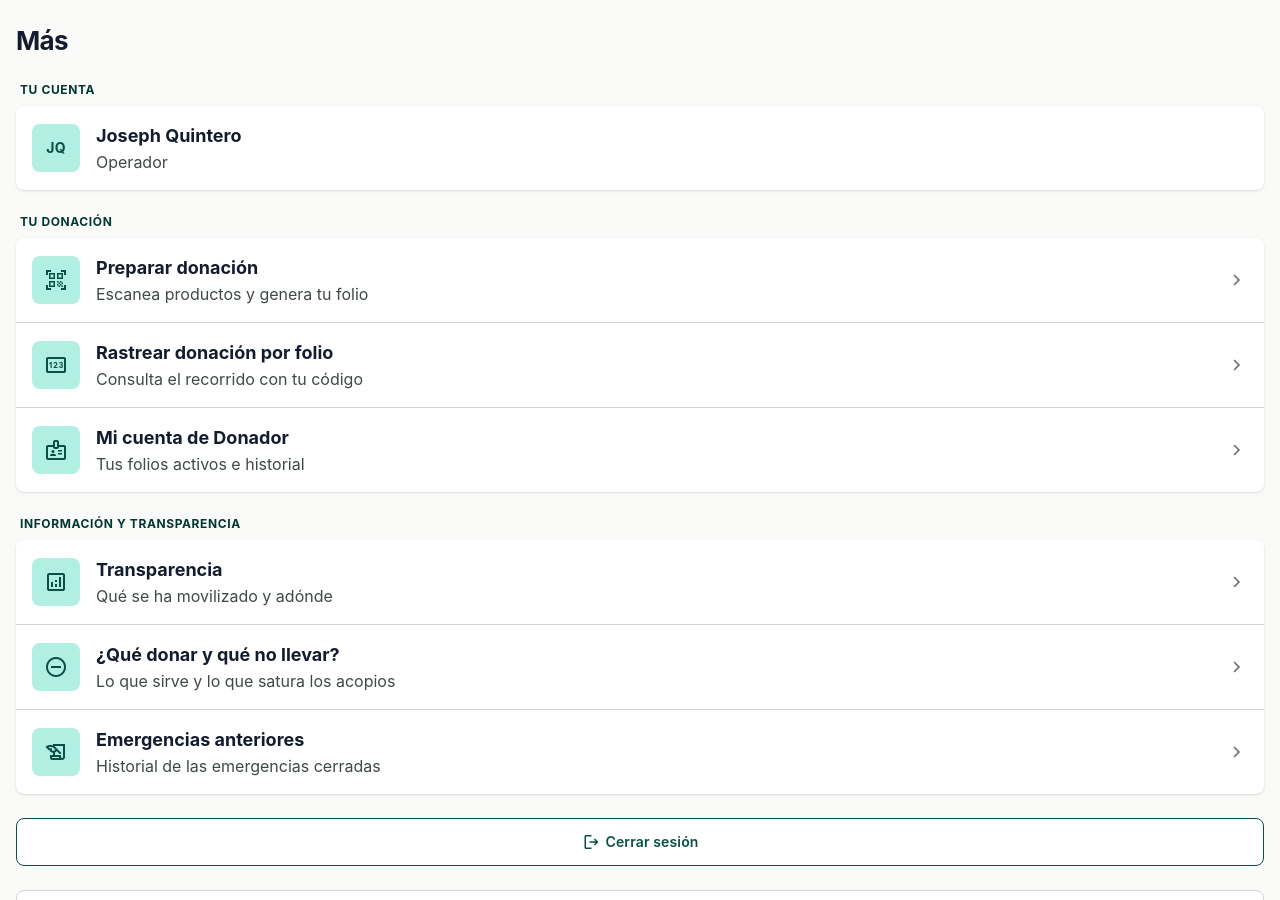
Test: Cerrar sesión con entradas sin enviar (O-12) › avisa cuántas son antes de cerrar y deja seguir en la consola
The image size is (1280, 900).
Click the button "Cerrar sesión" at (640, 842), box left=16, top=818, right=1264, bottom=866
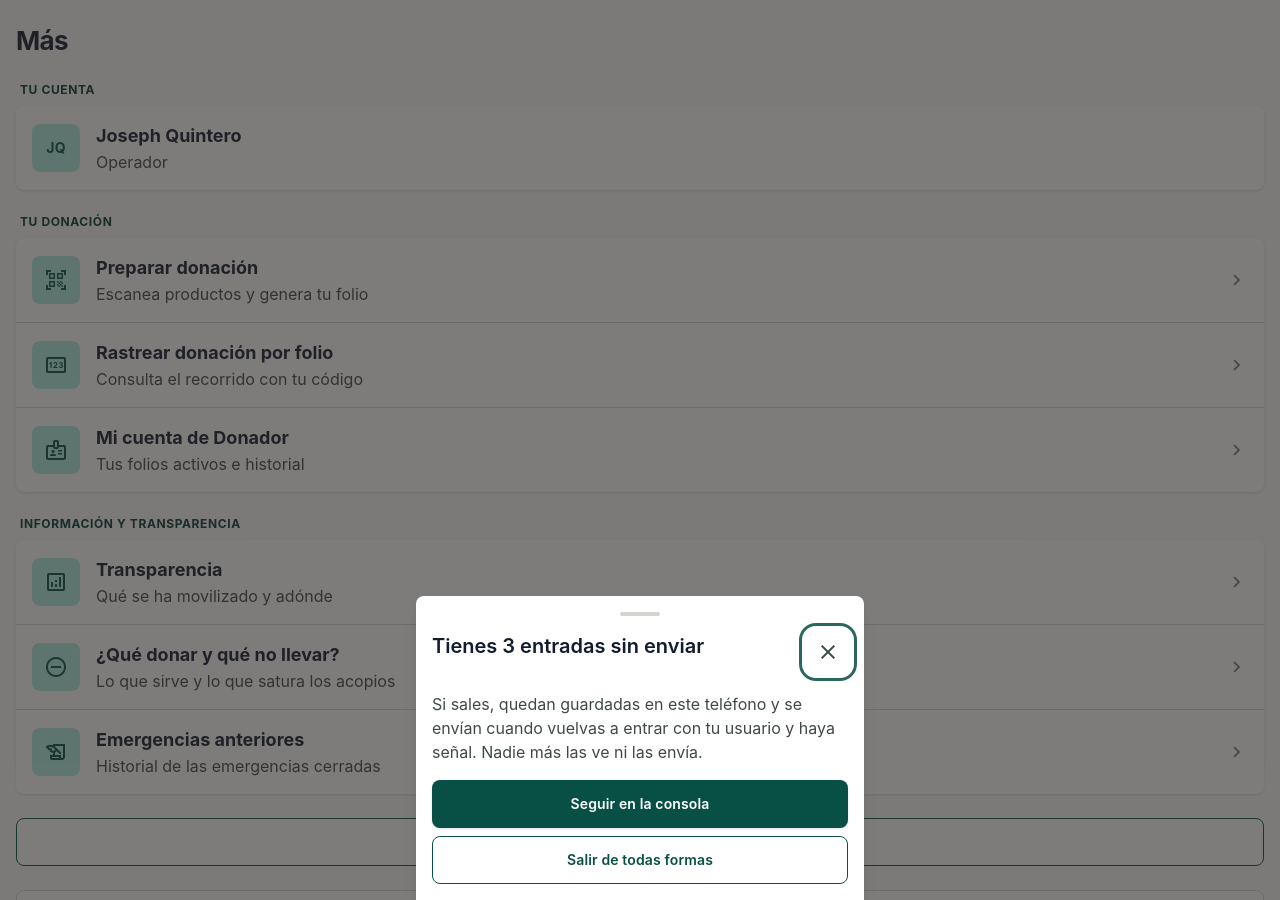
Result: the dialog "Tienes 3 entradas sin enviar" shows "quedan guardadas en este teléfono" at left=432, top=694, right=835, bottom=762
Click the button "Seguir en la consola" at (640, 804), box left=432, top=780, right=848, bottom=828
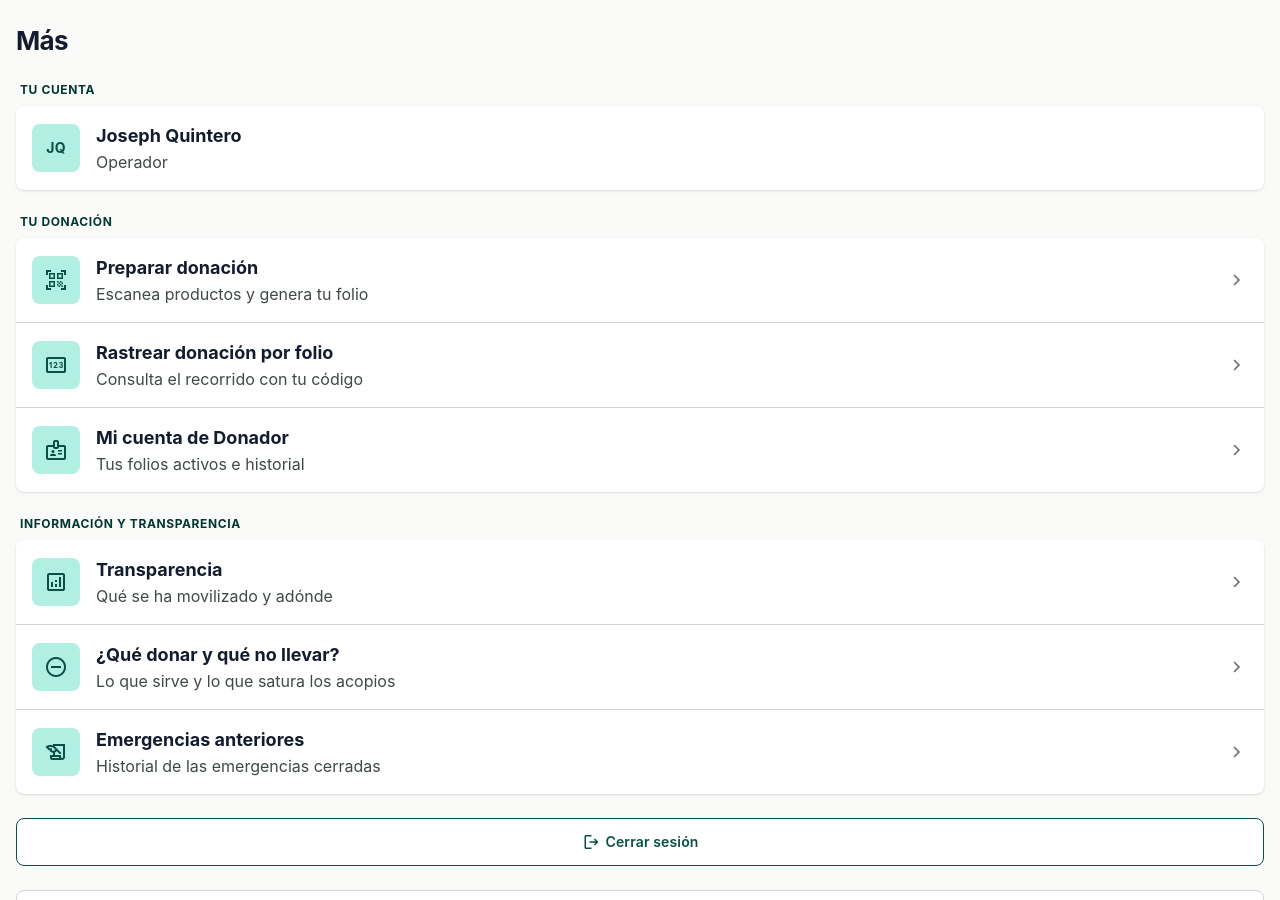
Expected: the element "Tu cuenta" is shown, left=16, top=82, right=1264, bottom=190
Result: the dialog is gone
